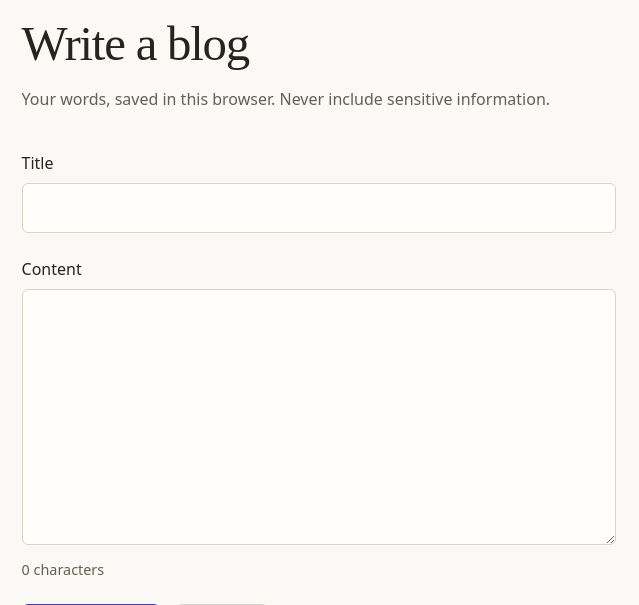
Scenario: WriteBlog › renders a passive required form with an unlimited counter and minimum textarea height
Expected: the heading "Write a blog" is shown, [22,16,249,71]
Expected: the text "0 characters" is shown, [22,560,104,579]
Type "abc" into the text box labelled "Content".
click(319, 417); type("abc")  # box [22,289,616,545]
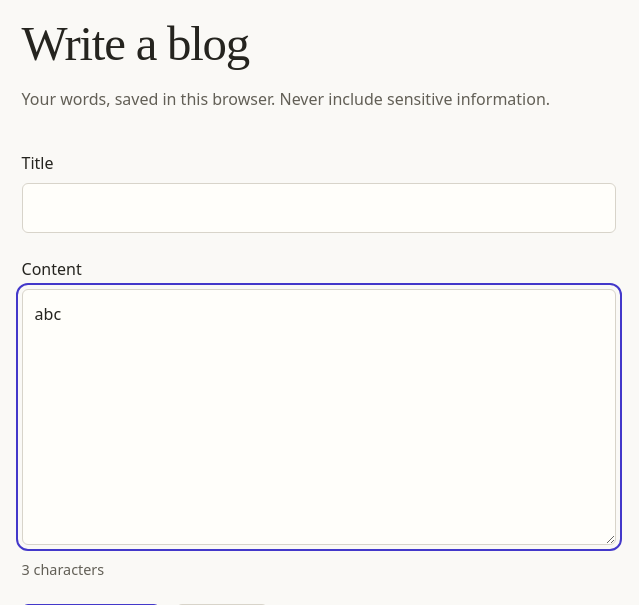
Expected: the text "3 characters" is shown, [22,560,104,579]
